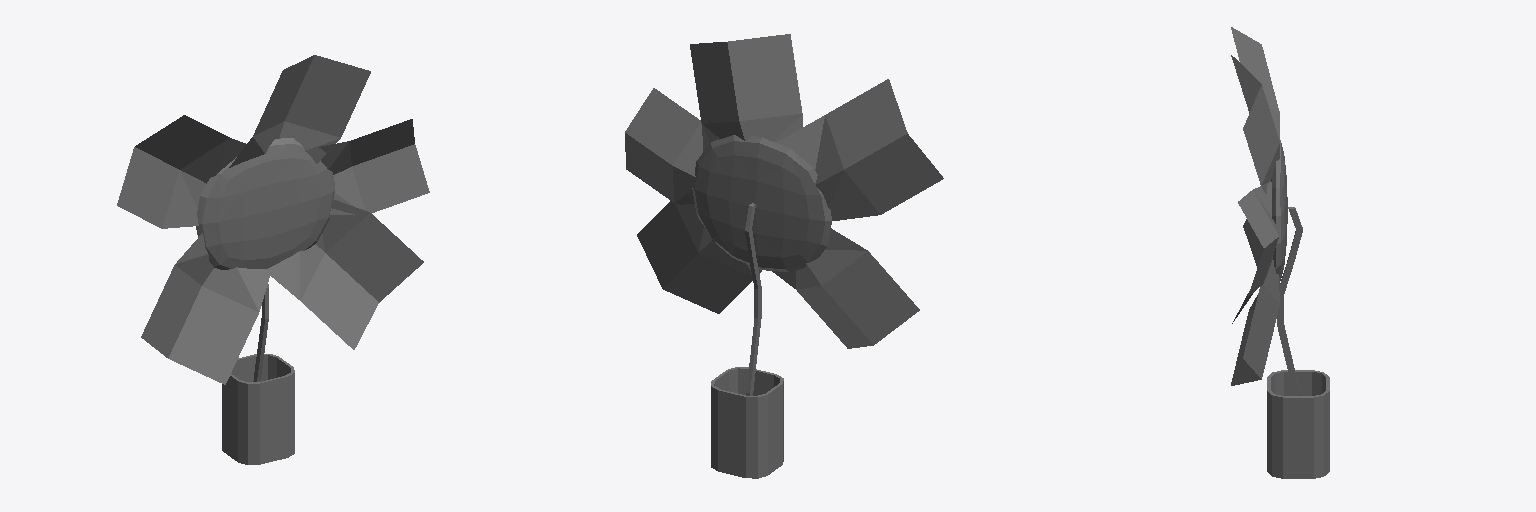
File: Metal_flower_O1_ScaledFU.obj
The picture shows the model from 3 angles: view 1: azimuth 30°, elevation 25°; view 2: azimuth 150°, elevation 25°; view 3: azimuth 270°, elevation 25°; orthographic projection.
Parts seen in each view (by area): view 1: Metal_Flower_01.obj; view 2: Metal_Flower_01.obj; view 3: Metal_Flower_01.obj.
Boxes of the visible parts, x1=… form: Metal_Flower_01.obj: x1=117, y1=55, x2=429, y2=464; Metal_Flower_01.obj: x1=625, y1=34, x2=943, y2=478; Metal_Flower_01.obj: x1=1231, y1=27, x2=1329, y2=478.
Size of the model in its own units: 0.8293 by 1.02 by 0.2253.